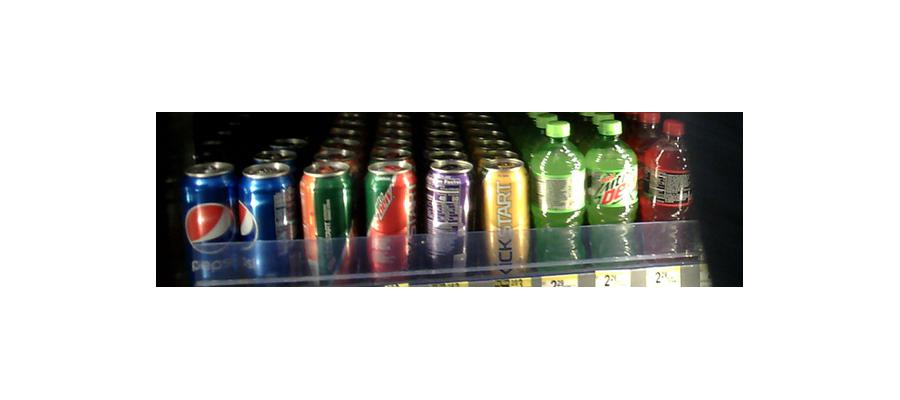bottle: (531, 116, 585, 268), (641, 114, 696, 261), (584, 115, 637, 265), (183, 157, 240, 278), (299, 159, 355, 275), (364, 152, 416, 275), (239, 162, 295, 276), (478, 153, 528, 272), (423, 158, 473, 269)
